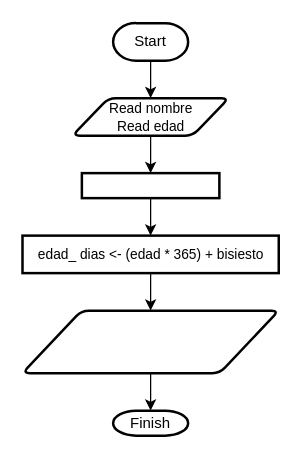
This 301x458 diagram has some shape labels left out. Here are the shapes that lost their labels. From the top down, the centre of each, then its label:
point (150, 185): bisiesto <- edad / 4
point (150, 341): Print " 'nombre' tiene aproximadamente 'edad_dias' dias de edad "
